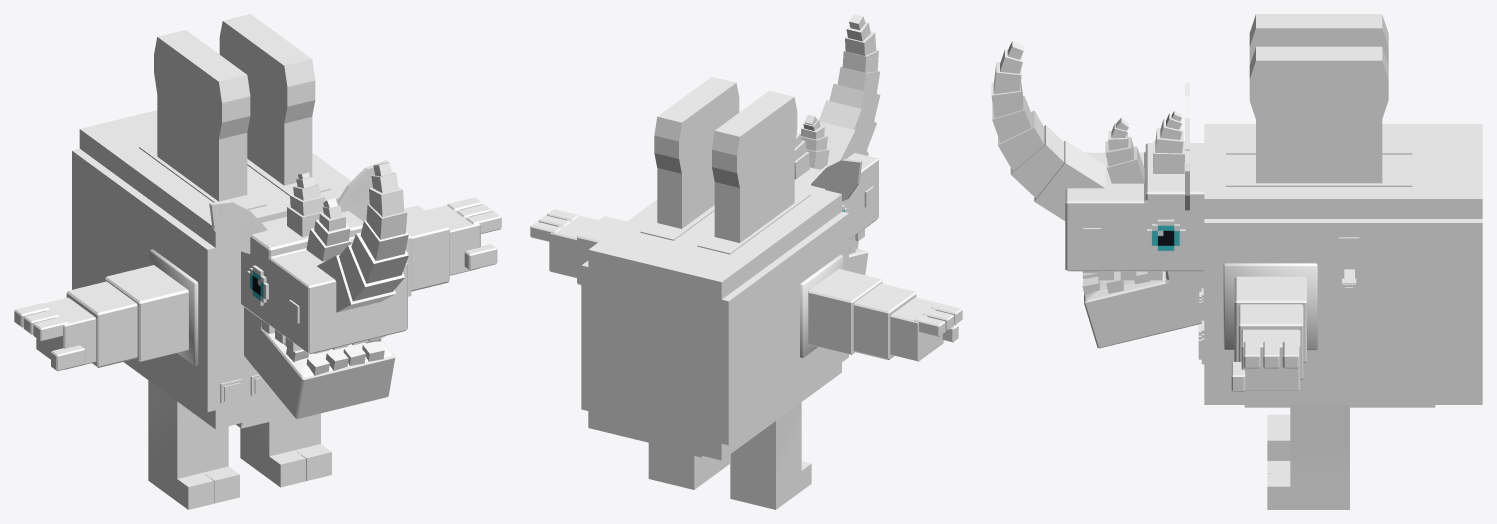
The model's file is RhinoToasterino.obj.
3 renders of one model, left to right at view 1: azimuth 30°, elevation 25°; view 2: azimuth 150°, elevation 25°; view 3: azimuth 270°, elevation 25°, orthographic. The views are drawn at different scales.
Visible parts, largest first — view 1: RhinoToasterino_4, RhinoToasterino_7, RhinoToasterino_6, RhinoToasterino_2, RhinoToasterino_0, RhinoToasterino_5, RhinoToasterino_1, RhinoToasterino_3; view 2: RhinoToasterino_7, RhinoToasterino_4, RhinoToasterino_6, RhinoToasterino_2, RhinoToasterino_0, RhinoToasterino_5; view 3: RhinoToasterino_7, RhinoToasterino_4, RhinoToasterino_2, RhinoToasterino_0, RhinoToasterino_6, RhinoToasterino_5, RhinoToasterino_3.
Part boxes in pixels (<box>): RhinoToasterino_4: <box>14,160,501,509</box>; RhinoToasterino_7: <box>72,110,366,429</box>; RhinoToasterino_6: <box>154,14,315,201</box>; RhinoToasterino_2: <box>262,162,408,375</box>; RhinoToasterino_0: <box>160,37,280,196</box>; RhinoToasterino_5: <box>139,142,330,403</box>; RhinoToasterino_1: <box>218,173,374,320</box>; RhinoToasterino_3: <box>247,265,268,305</box>; RhinoToasterino_7: <box>581,182,848,460</box>; RhinoToasterino_4: <box>530,153,962,509</box>; RhinoToasterino_6: <box>654,77,797,242</box>; RhinoToasterino_2: <box>794,14,880,254</box>; RhinoToasterino_0: <box>685,97,791,238</box>; RhinoToasterino_5: <box>640,190,843,358</box>; RhinoToasterino_7: <box>1204,124,1482,404</box>; RhinoToasterino_4: <box>1065,82,1435,509</box>; RhinoToasterino_2: <box>991,41,1184,295</box>; RhinoToasterino_0: <box>1263,40,1374,183</box>; RhinoToasterino_6: <box>1249,14,1388,183</box>; RhinoToasterino_5: <box>1198,135,1412,369</box>; RhinoToasterino_3: <box>1147,219,1185,256</box>.
Bounding box in the file's own units: 4.17 × 3.68 × 3.75.
8 materials, 1 textured.
